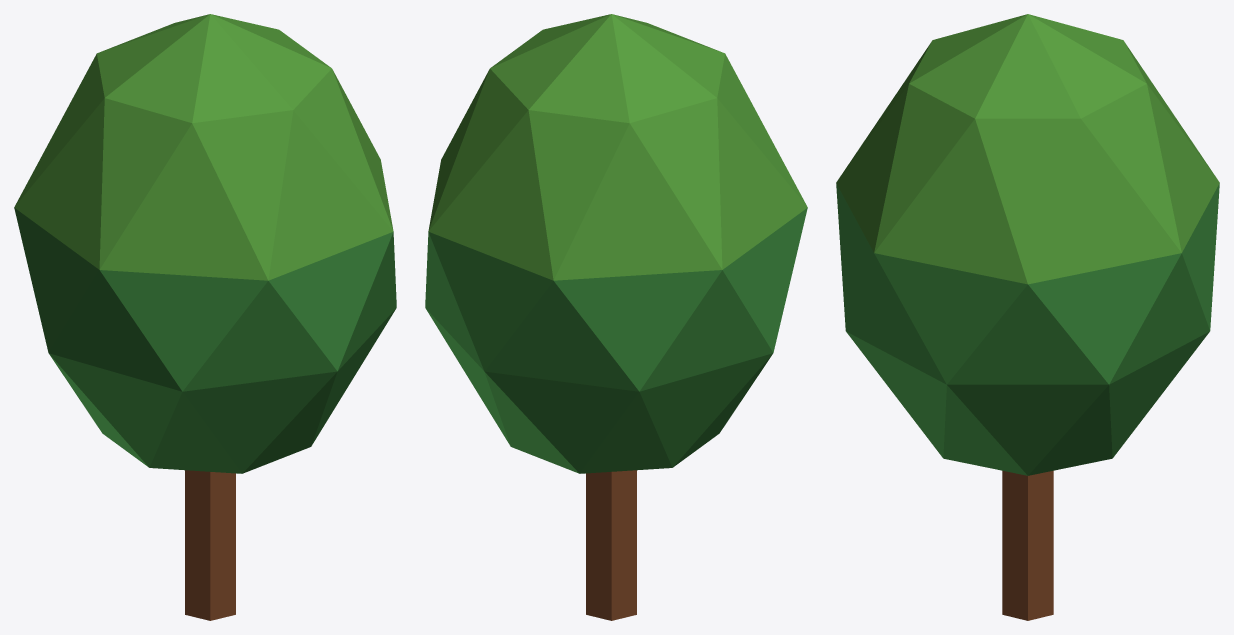
File: Tree1.fbx
The picture shows the model from 3 angles, left to right: view 1: azimuth 30°, elevation 25°; view 2: azimuth 150°, elevation 25°; view 3: azimuth 270°, elevation 25°; orthographic projection.
Parts seen in each view (by area): view 1: Tree1; view 2: Tree1; view 3: Tree1.
Boxes of the visible parts, box(x1,y1,x2,y2) form: Tree1: box(14, 14, 396, 620); Tree1: box(425, 14, 807, 620); Tree1: box(836, 14, 1219, 620).
Size of the model in its own units: 0.585 by 1 by 0.585.
